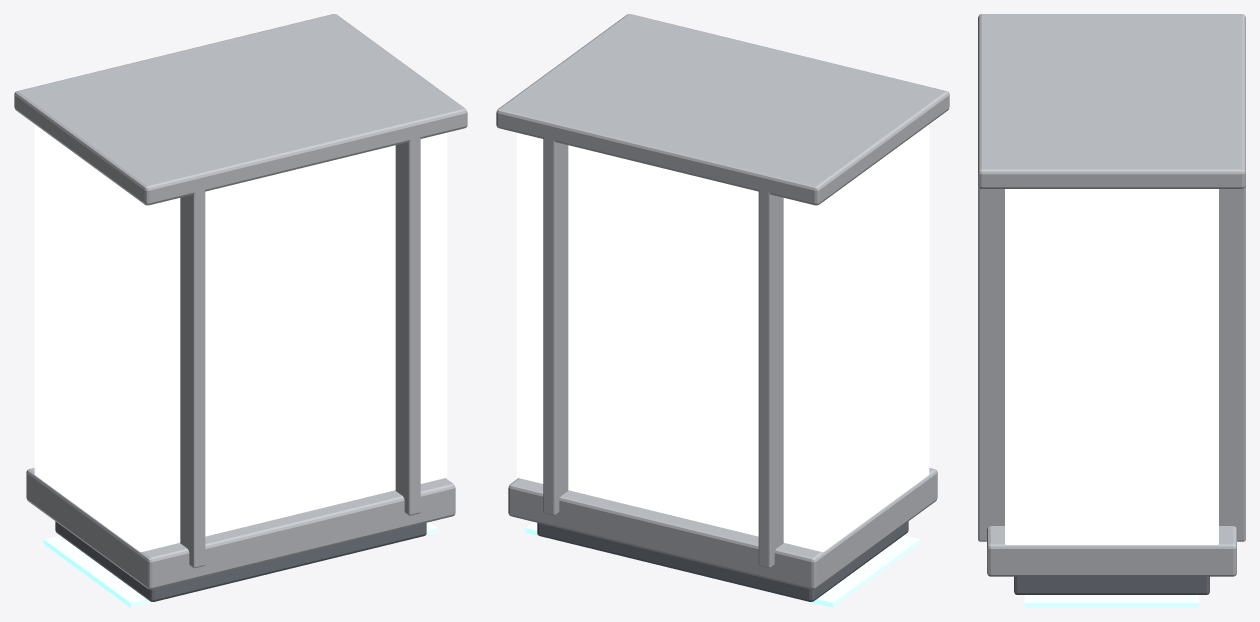
The model's file is bridge_2.glb.
The picture shows the model from 3 angles, left to right: view 1: azimuth 30°, elevation 25°; view 2: azimuth 150°, elevation 25°; view 3: azimuth 270°, elevation 25°; orthographic projection.
Visible parts, largest first — view 1: ext_bridge_glass, ext_bridge_roof, ext_bridge_ribs, ext_bridge_floor, ext_bridge_under, ext_bridge_glow; view 2: ext_bridge_glass, ext_bridge_roof, ext_bridge_ribs, ext_bridge_floor, ext_bridge_under, ext_bridge_glow; view 3: ext_bridge_glass, ext_bridge_roof, ext_bridge_ribs, ext_bridge_floor, ext_bridge_under, ext_bridge_glow.
Boxes of the visible parts, x1,y1,x2,y2 form: ext_bridge_glass: (34, 124, 447, 551); ext_bridge_roof: (14, 14, 467, 205); ext_bridge_ribs: (180, 137, 420, 568); ext_bridge_floor: (26, 468, 455, 589); ext_bridge_under: (55, 521, 426, 601); ext_bridge_glow: (43, 522, 438, 607); ext_bridge_glass: (516, 124, 929, 551); ext_bridge_roof: (496, 14, 949, 205); ext_bridge_ribs: (543, 132, 783, 568); ext_bridge_floor: (508, 468, 937, 589); ext_bridge_under: (537, 521, 908, 601); ext_bridge_glow: (525, 522, 920, 607); ext_bridge_glass: (1005, 189, 1218, 544); ext_bridge_roof: (978, 14, 1245, 188); ext_bridge_ribs: (978, 186, 1245, 541); ext_bridge_floor: (987, 526, 1236, 576); ext_bridge_under: (1014, 576, 1209, 594); ext_bridge_glow: (1024, 595, 1199, 607).
Bounding box in the file's own units: 2.1 × 2.72 × 1.5.
